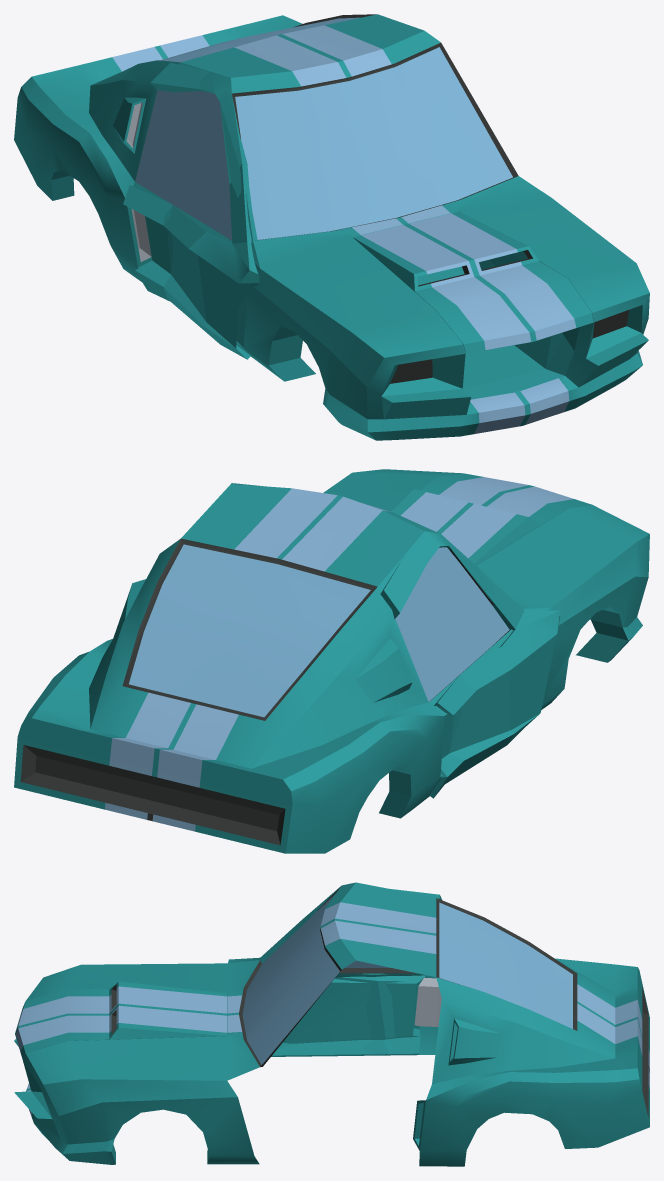
Rendered from macchina_verde.fbx.
3 renders of one model, top to bottom at view 1: azimuth 30°, elevation 25°; view 2: azimuth 150°, elevation 25°; view 3: azimuth 270°, elevation 25°, orthographic. The views are drawn at different scales.
Visible parts, largest first — view 1: scocca_1, cofano_1, porta_rotta_1, porta_nuova_1; view 2: scocca_1, porta_rotta_1, porta_nuova_1, cofano_1; view 3: scocca_1, cofano_1, porta_nuova_1, porta_rotta_1.
Boxes of the visible parts, left/top/right/bottom form: scocca_1: left=14, top=14, right=649, bottom=440; cofano_1: left=353, top=211, right=593, bottom=353; porta_rotta_1: left=123, top=62, right=259, bottom=359; porta_nuova_1: left=133, top=62, right=259, bottom=357; scocca_1: left=14, top=469, right=649, bottom=853; porta_rotta_1: left=380, top=531, right=560, bottom=798; porta_nuova_1: left=378, top=531, right=551, bottom=797; cofano_1: left=391, top=473, right=591, bottom=565; scocca_1: left=14, top=882, right=649, bottom=1166; cofano_1: left=15, top=981, right=226, bottom=1059; porta_nuova_1: left=260, top=935, right=425, bottom=1056; porta_rotta_1: left=228, top=887, right=441, bottom=1055.
Bounding box in the file's own units: 207 × 141 × 424.
